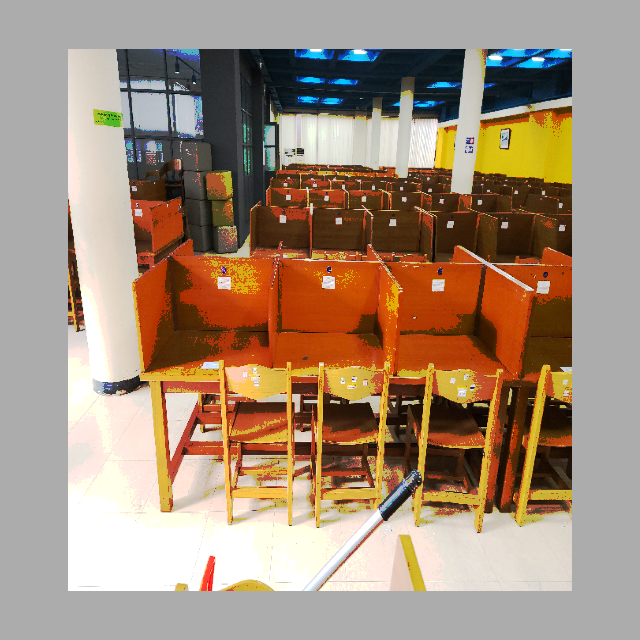empty: (145, 249, 276, 441), (405, 258, 523, 457), (282, 253, 398, 442)
